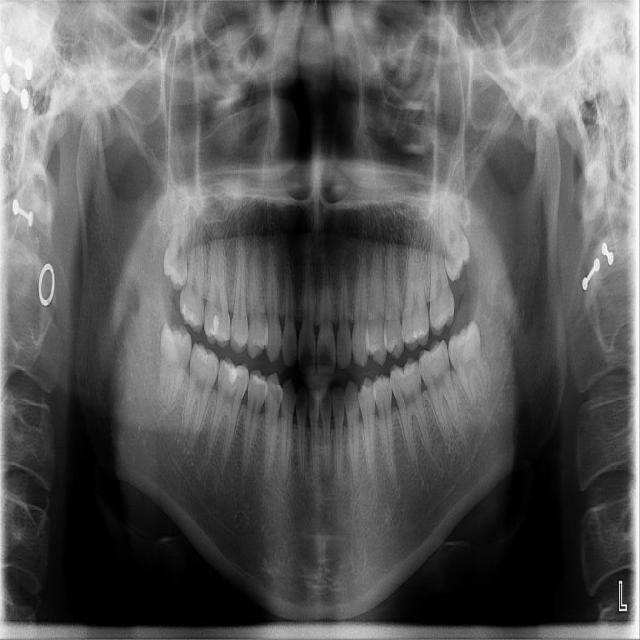Filling: (207, 314, 226, 337), (182, 305, 200, 329), (224, 363, 244, 382)
impacted tooth: (448, 319, 494, 403), (440, 187, 469, 280), (162, 327, 190, 408), (166, 200, 189, 287)
